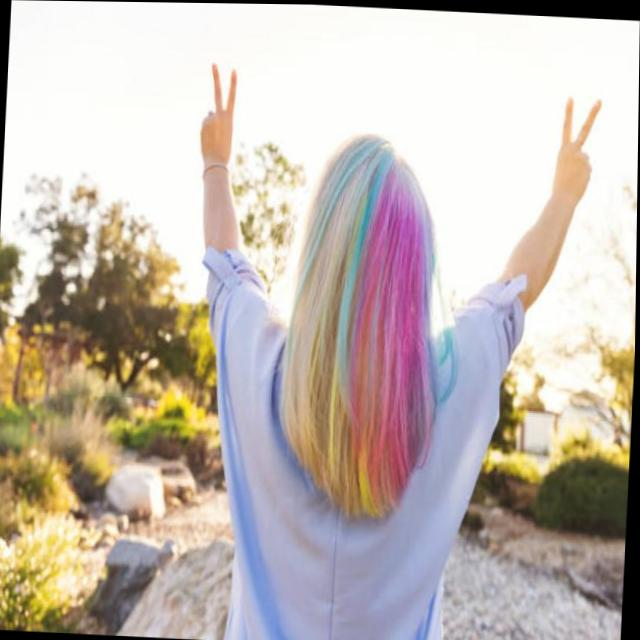no helmet: (296, 123, 441, 364)
